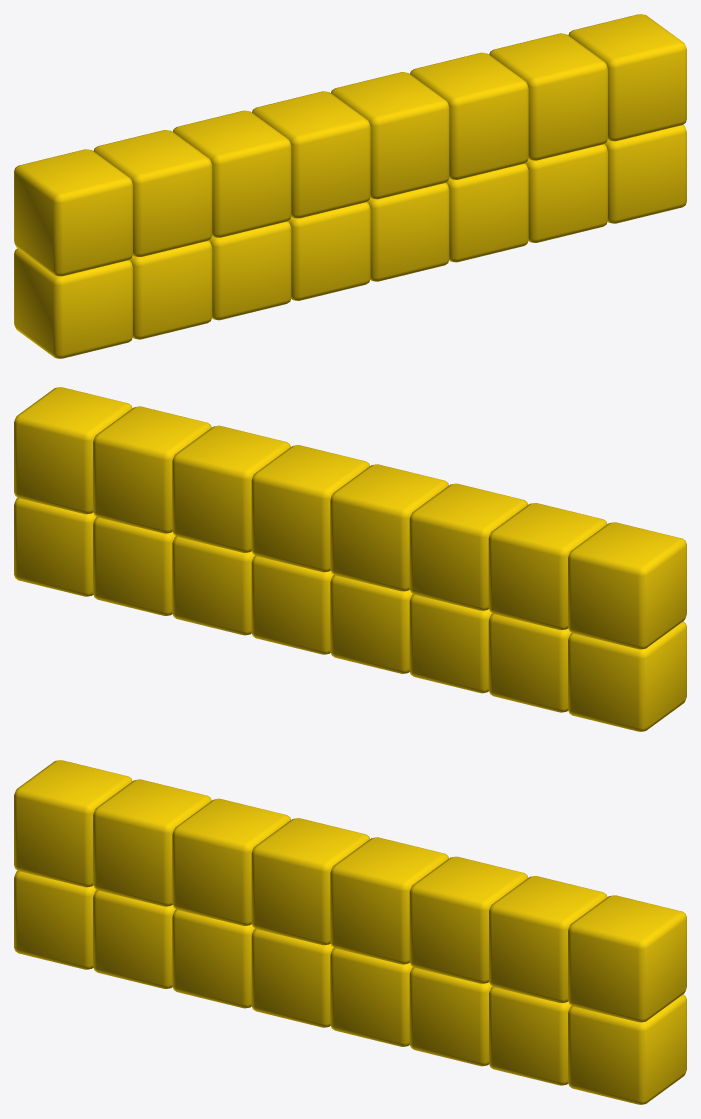
File: wall_undestruct.glb
The picture shows the model from 3 angles, top to bottom: view 1: azimuth 30°, elevation 25°; view 2: azimuth 150°, elevation 25°; view 3: azimuth 330°, elevation 25°; orthographic projection.
Parts seen in each view (by area): view 1: Object_10, Object_10.001; view 2: Object_10, Object_10.001; view 3: Object_10.001, Object_10.
Boxes of the visible parts, x1,y1,x2,y2 form: Object_10: [14, 91, 370, 358]; Object_10.001: [331, 14, 686, 281]; Object_10: [330, 464, 686, 731]; Object_10.001: [14, 387, 369, 654]; Object_10.001: [330, 837, 686, 1104]; Object_10: [14, 760, 369, 1027].
Size of the model in its own units: 33.6 by 8.38 by 4.2.
